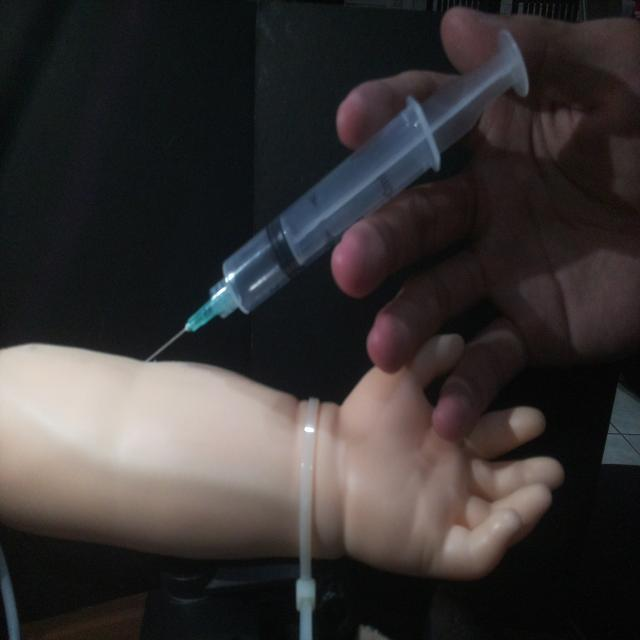25deg: (140, 26, 532, 364)
